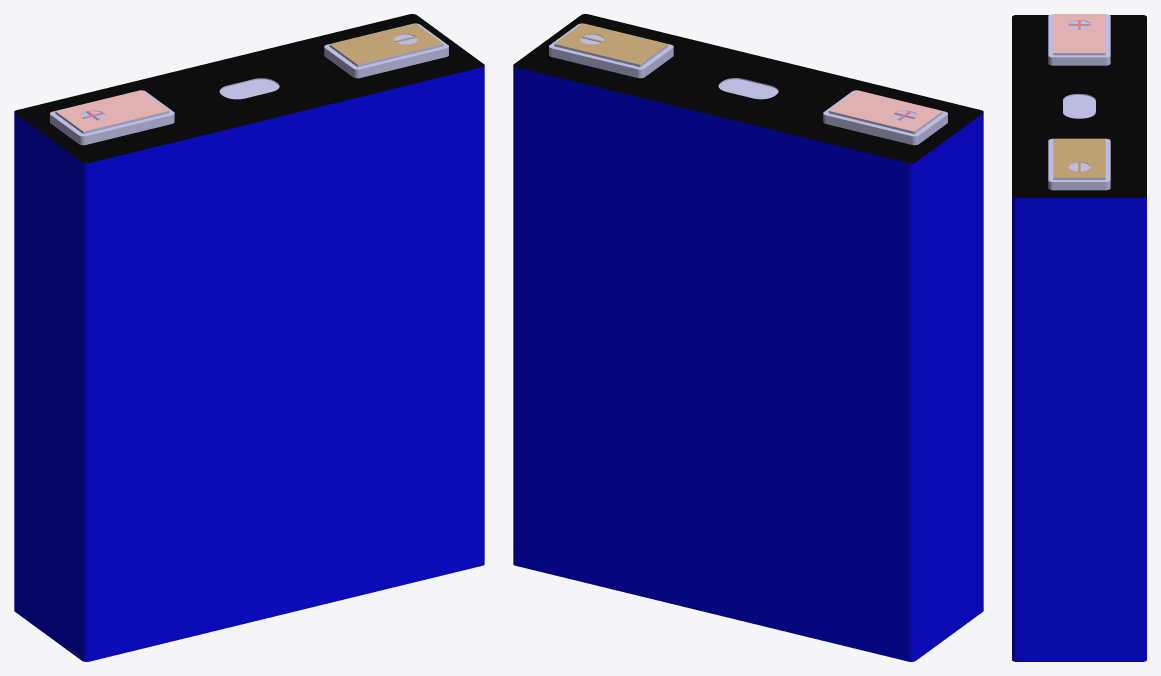
The model's file is prismatic_cell.glb.
3 views of the same model, side by side, from view 1: azimuth 30°, elevation 25°; view 2: azimuth 150°, elevation 25°; view 3: azimuth 270°, elevation 25° (orthographic). The views are drawn at different scales.
Visible parts, largest first — view 1: Part003; view 2: Part003; view 3: Part003.
Part boxes in pixels (x1=…): Part003: x1=14, y1=14, x2=484, y2=661; Part003: x1=513, y1=14, x2=983, y2=661; Part003: x1=1012, y1=14, x2=1146, y2=661.
Size of the model in its own units: 0.173 by 0.2097 by 0.054.
